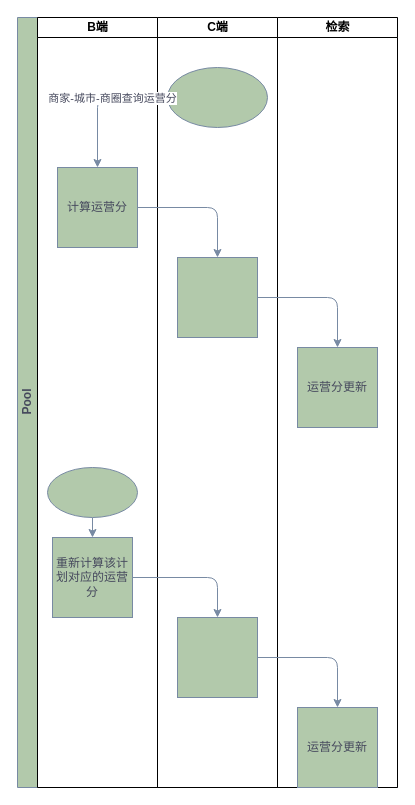
Some shapes in this 415 by 805 pixel diagram are drawn without their labels. The shapes that lost their labels are listed below. From the top down, each one's centre as x and y in pixels, then its label:
point 217,97: 定时任务（天）
point 217,297: 更新商家该商圈房源运营分
point 92,492: 计划变更
point 217,657: 更新该计划对应的投放范围的房源运营分
